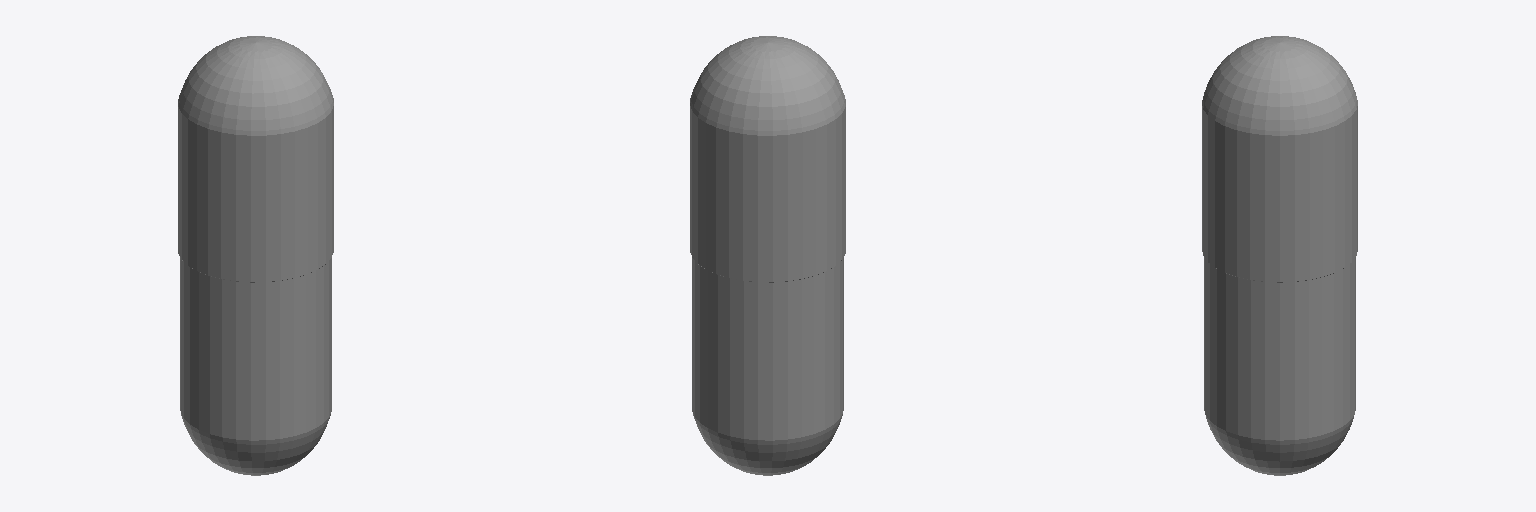
Rendered from kapsule.obj.
The picture shows the model from 3 angles: view 1: azimuth 30°, elevation 25°; view 2: azimuth 150°, elevation 25°; view 3: azimuth 270°, elevation 25°; orthographic projection.
Visible parts, largest first — view 1: Sphere; view 2: Sphere; view 3: Sphere.
Boxes of the visible parts, x1,y1,x2,y2 form: Sphere: [178, 36, 333, 475]; Sphere: [690, 36, 845, 475]; Sphere: [1202, 36, 1357, 475].
Size of the model in its own units: 1.99 by 5.99 by 1.99.